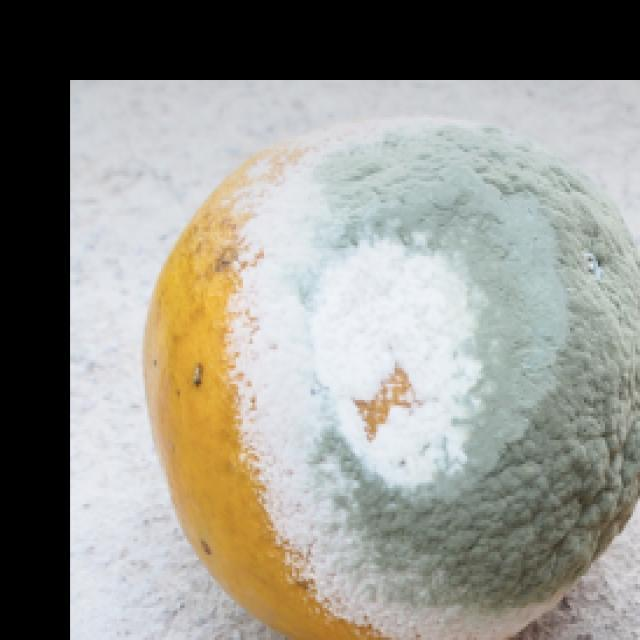sangat-busuk: (145, 119, 639, 639)
